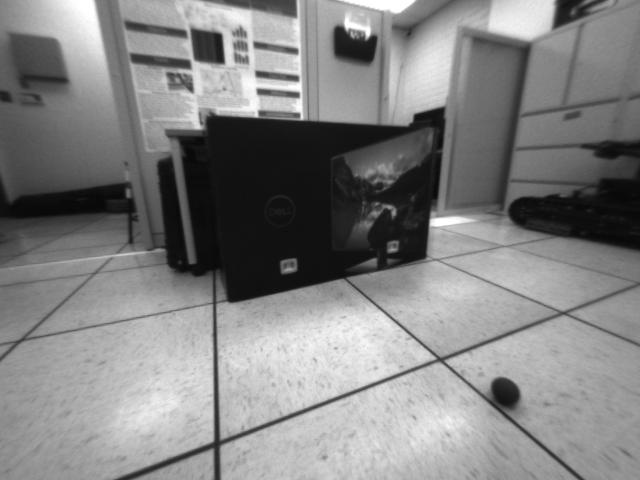dogtoy: (489, 371, 527, 412)
